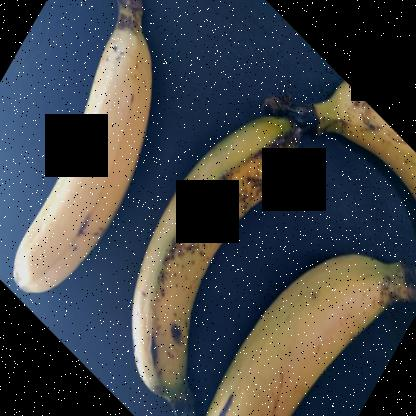freshripe: (11, 7, 159, 288)
ripe: (127, 90, 301, 389), (213, 237, 397, 415)
